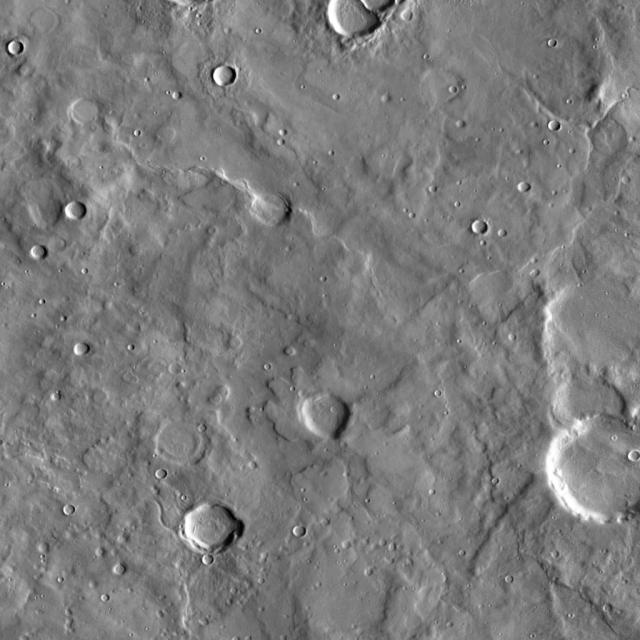crater: (538, 414, 640, 526), (534, 280, 640, 378), (544, 376, 618, 441), (177, 506, 232, 554), (150, 424, 203, 471), (294, 396, 346, 442), (321, 0, 378, 40), (422, 67, 464, 105), (244, 193, 286, 230), (63, 101, 96, 130), (213, 65, 237, 86), (65, 201, 87, 221), (28, 244, 47, 260), (74, 340, 92, 356), (8, 41, 24, 56), (472, 220, 488, 233), (60, 504, 74, 516), (515, 182, 529, 194), (114, 564, 127, 576), (38, 544, 52, 555), (550, 119, 562, 131), (292, 526, 304, 537), (164, 92, 177, 102), (155, 470, 167, 480), (622, 452, 634, 462), (202, 558, 214, 568), (376, 93, 388, 103), (168, 363, 180, 373), (94, 548, 106, 558), (401, 11, 411, 21), (88, 578, 98, 588), (118, 537, 128, 546), (497, 228, 507, 237), (504, 575, 514, 584), (547, 40, 557, 48), (421, 188, 431, 196), (601, 606, 611, 614), (51, 392, 60, 400), (622, 174, 631, 182), (456, 118, 464, 126), (450, 87, 458, 95), (279, 128, 287, 135), (100, 596, 108, 602), (492, 488, 500, 494), (276, 138, 284, 144), (332, 94, 339, 100)
